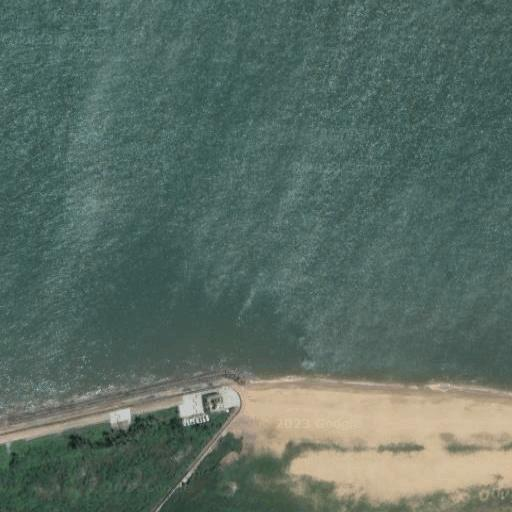building: (176, 392, 208, 423), (106, 409, 134, 433), (207, 395, 227, 412)
